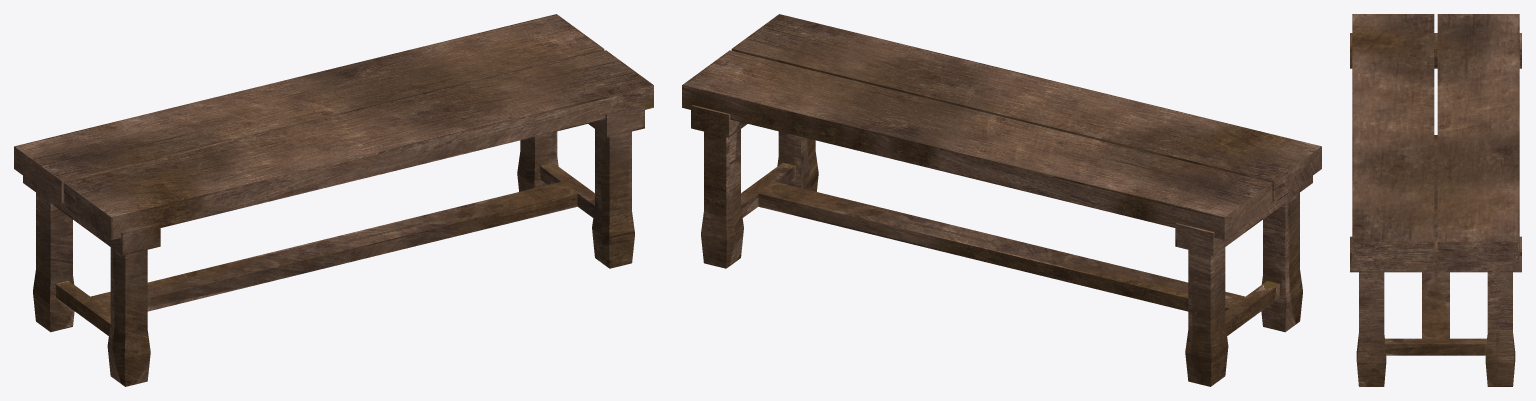
The model's file is tavChair.glb.
3 renders of one model, left to right at view 1: azimuth 30°, elevation 25°; view 2: azimuth 150°, elevation 25°; view 3: azimuth 270°, elevation 25°, orthographic. The views are drawn at different scales.
Visible parts, largest first — view 1: tavChair; view 2: tavChair; view 3: tavChair.
Part boxes in pixels (left/top/right/bottom): tavChair: left=14, top=14, right=653, bottom=386; tavChair: left=682, top=14, right=1321, bottom=386; tavChair: left=1350, top=14, right=1521, bottom=386.
Size of the model in its own units: 1.72 by 0.5359 by 0.5484.
Materials: 1 (1 with a texture image).
